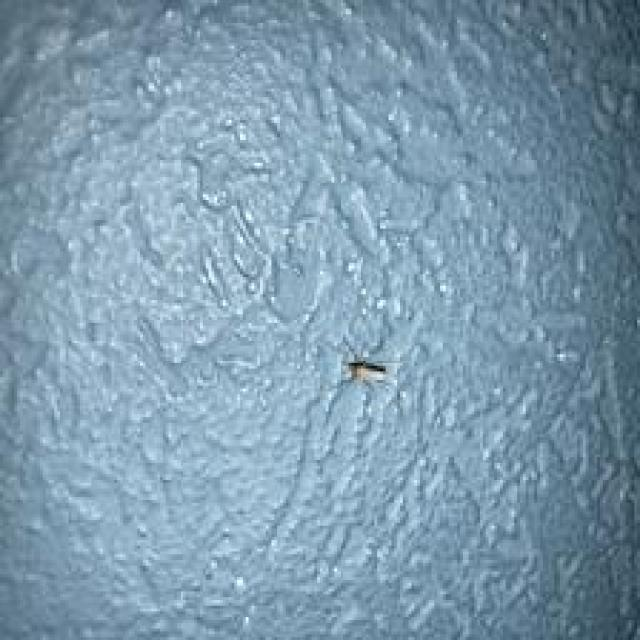Culex: (346, 357, 386, 383)
